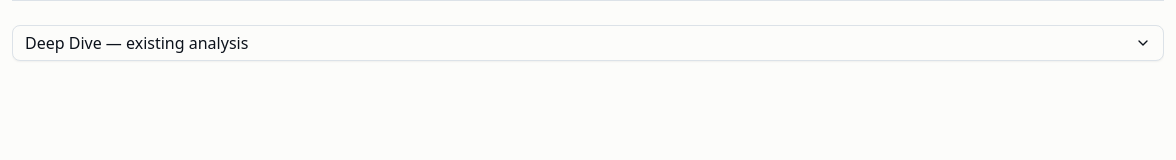
Scenario: DeepDiveDisclosure › starts collapsed and reveals the existing analysis only when opened
Expected: the text "Existing analysis contents" is not shown
Click the button "Deep Dive — existing analysis" at (137, 43), box x1=12 y1=25 x2=1164 y2=61
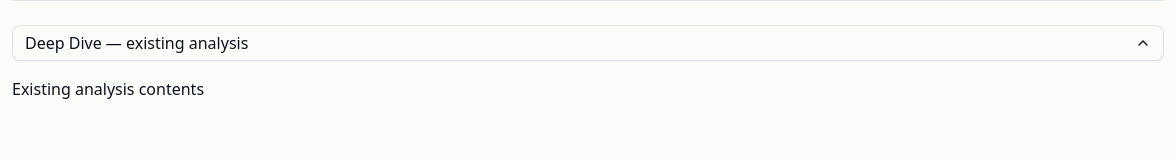
Now the button "Deep Dive — existing analysis" is expanded, box x1=12 y1=25 x2=1164 y2=61
Now the text "Existing analysis contents" is shown, box x1=12 y1=78 x2=204 y2=100
